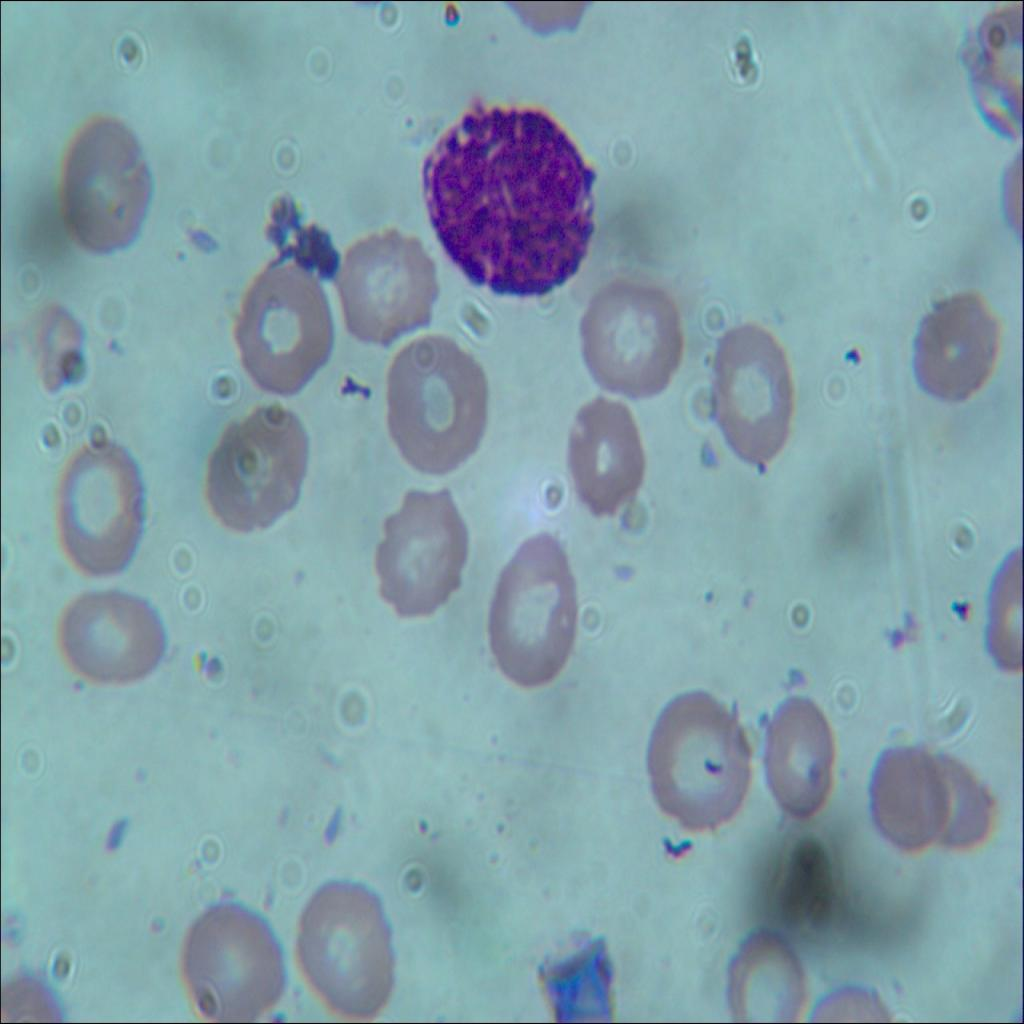Basofil: (411, 100, 596, 310)
Eritrosit: (634, 685, 754, 831), (561, 261, 684, 401), (48, 112, 156, 268), (194, 398, 306, 541), (171, 892, 288, 1023), (389, 319, 484, 479), (486, 525, 579, 686), (298, 876, 398, 1023), (226, 254, 332, 392), (53, 435, 148, 588), (370, 484, 476, 616), (701, 318, 798, 462), (58, 578, 168, 698), (898, 277, 1001, 399), (330, 222, 436, 335), (571, 385, 653, 526), (756, 692, 842, 826), (706, 920, 806, 1023), (919, 735, 999, 855), (876, 745, 946, 851)
Platelet: (878, 614, 904, 655), (842, 328, 863, 374), (755, 449, 771, 482)
